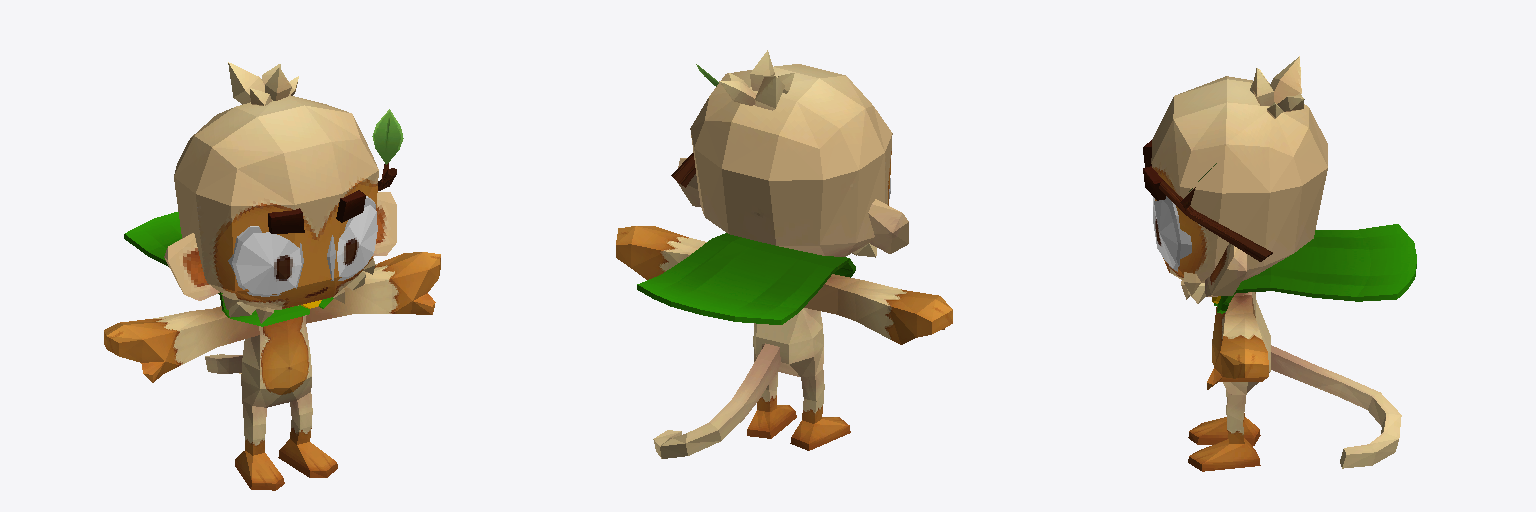
3 views of the same model, side by side, from view 1: azimuth 30°, elevation 25°; view 2: azimuth 150°, elevation 25°; view 3: azimuth 270°, elevation 25° (orthographic).
Visible parts, largest first — view 1: FlatSkin_Druid_Druid, DruidCapeGeo, MonkeyEyelidsGeo_MonkeyEyelidsGeo.002; view 2: FlatSkin_Druid_Druid, DruidCapeGeo; view 3: FlatSkin_Druid_Druid, DruidCapeGeo, MonkeyEyelidsGeo_MonkeyEyelidsGeo.002.
Part boxes in pixels (left/top/right/bottom): FlatSkin_Druid_Druid: left=104, top=62, right=440, bottom=490; DruidCapeGeo: left=124, top=212, right=333, bottom=326; MonkeyEyelidsGeo_MonkeyEyelidsGeo.002: left=228, top=196, right=375, bottom=296; FlatSkin_Druid_Druid: left=616, top=50, right=952, bottom=458; DruidCapeGeo: left=637, top=233, right=855, bottom=324; FlatSkin_Druid_Druid: left=1143, top=56, right=1401, bottom=471; DruidCapeGeo: left=1212, top=224, right=1416, bottom=313; MonkeyEyelidsGeo_MonkeyEyelidsGeo.002: left=1163, top=196, right=1191, bottom=271.
Size of the model in its own units: 22.18 by 24.68 by 15.76.
Materials: 3 (2 with a texture image).